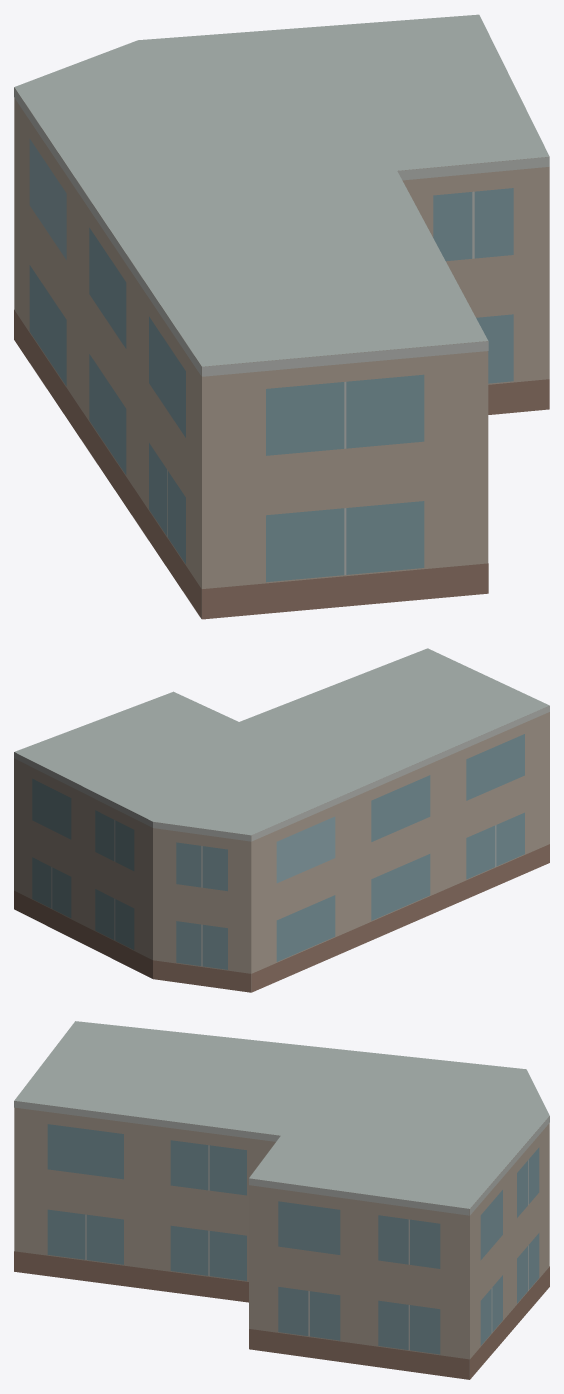
The model's file is survey-upis-32782532.glb.
3 views of the same model, one above another, from view 1: azimuth 30°, elevation 25°; view 2: azimuth 150°, elevation 25°; view 3: azimuth 270°, elevation 25° (orthographic). The views are drawn at different scales.
Parts seen in each view (by area): view 1: survey-upis-32782532.tmp; view 2: survey-upis-32782532.tmp; view 3: survey-upis-32782532.tmp.
Part boxes in pixels (<box>): survey-upis-32782532.tmp: <box>14,14,549,619</box>; survey-upis-32782532.tmp: <box>14,648,549,992</box>; survey-upis-32782532.tmp: <box>14,1021,549,1379</box>.
Size of the model in its own units: 14.39 by 6.1 by 17.33.
